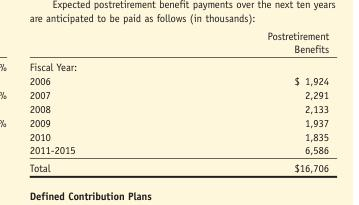table: (28, 28, 328, 173)
table column: (170, 28, 328, 173), (28, 28, 170, 173)
table column header: (28, 28, 328, 57)
table projected row header: (28, 57, 328, 73)
table row: (28, 28, 328, 57), (28, 57, 328, 73), (28, 142, 328, 158), (28, 158, 328, 173), (28, 73, 328, 87), (28, 87, 328, 101), (28, 101, 328, 115), (28, 128, 328, 142), (28, 115, 328, 128)
